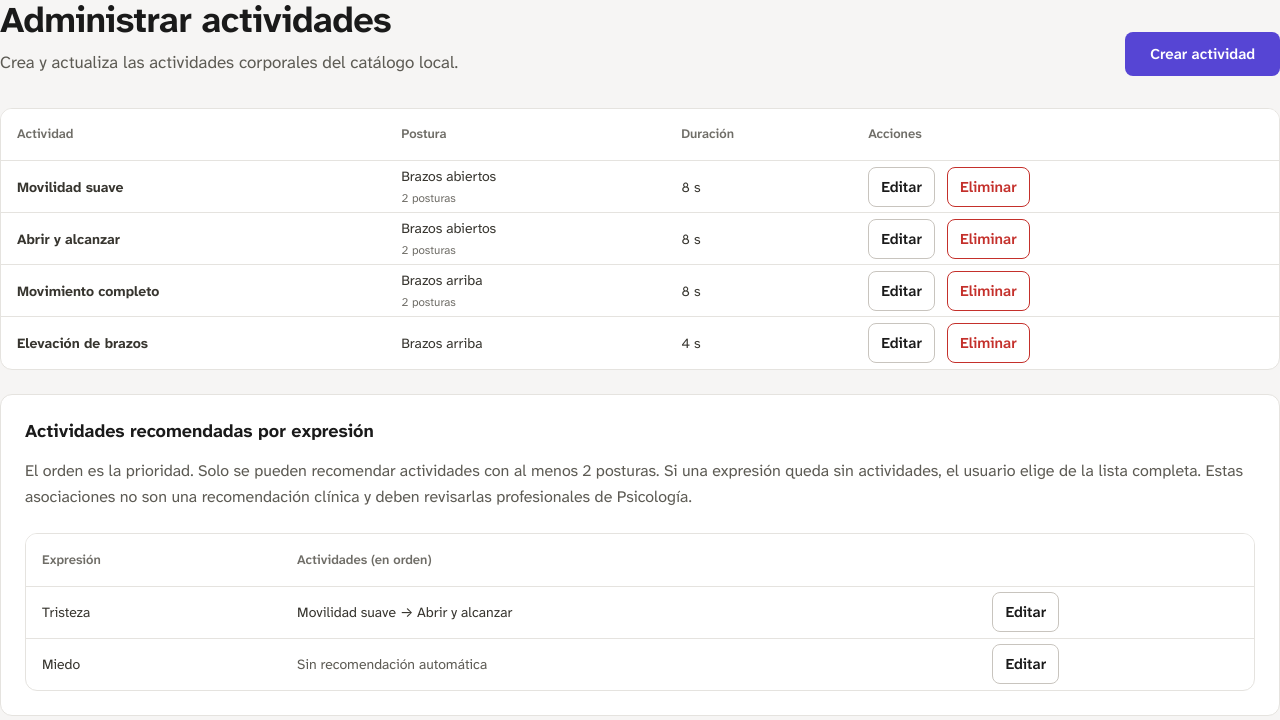
Test: administración de recomendaciones › muestra el 409 que nombra las expresiones afectadas al dejar una actividad recomendada con un paso
The width and height of the screenshot is (1280, 720).
Click the 1st button "Editar".
click(902, 187)  # box top-left (868, 167), bottom-right (935, 207)
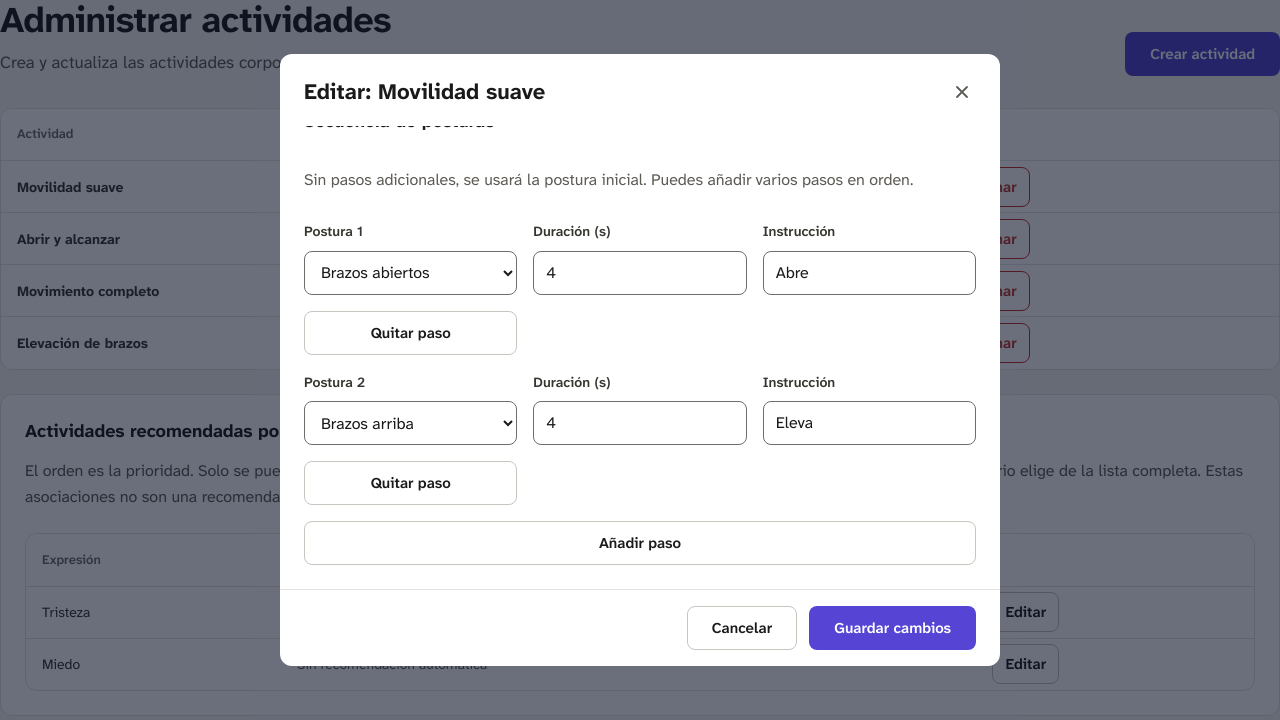
Click the 2nd button "Quitar paso".
click(411, 483)  # box top-left (304, 461), bottom-right (517, 505)
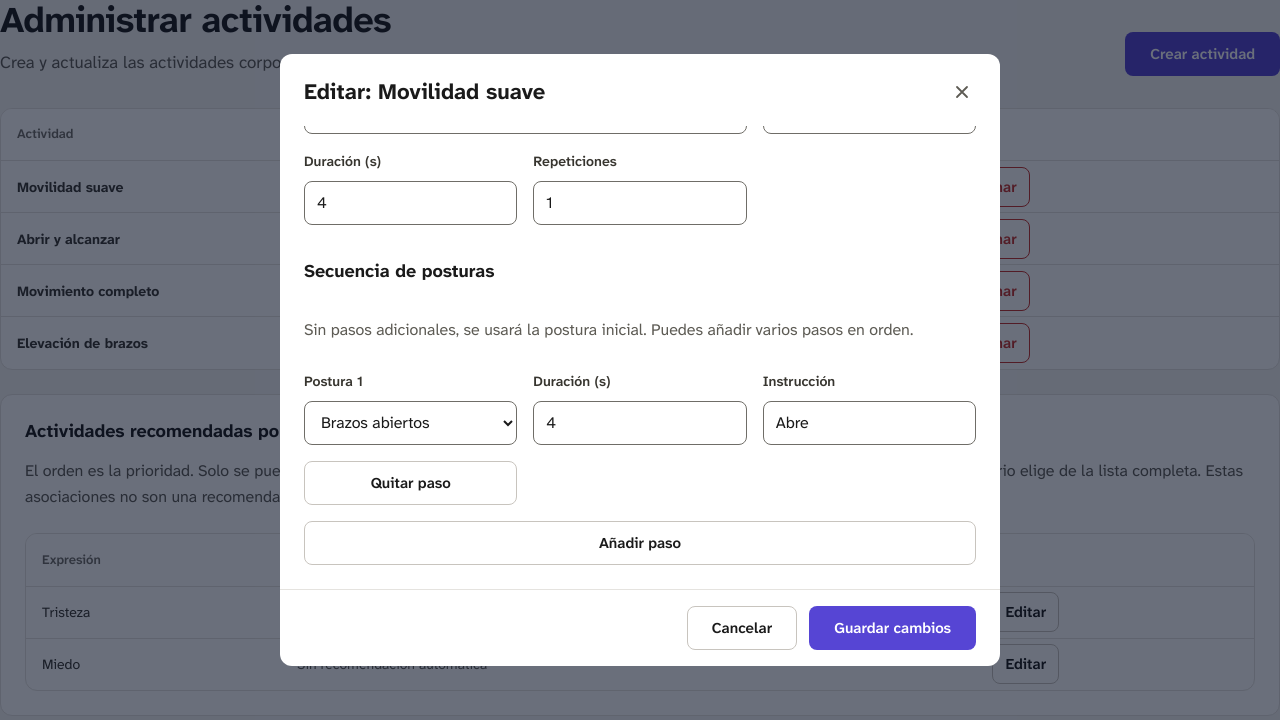
Click the button "Guardar cambios".
click(893, 628)  # box top-left (809, 606), bottom-right (976, 650)
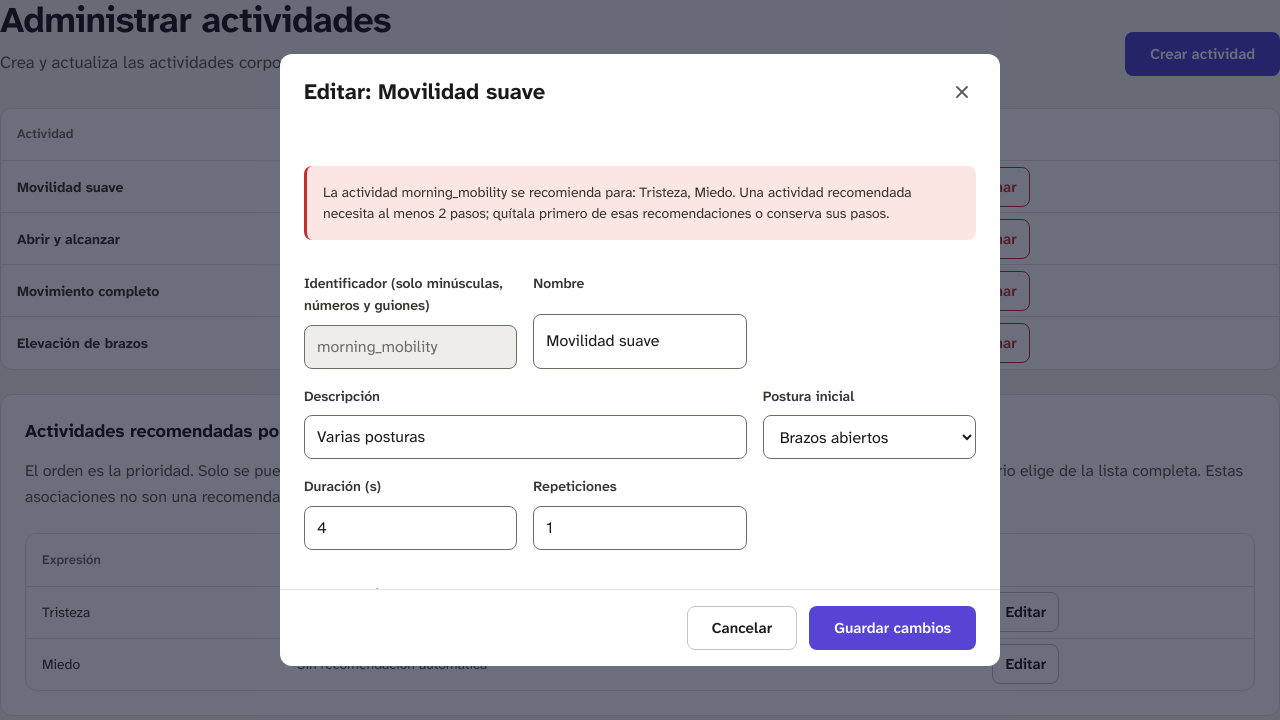
Result: the message shows "se recomienda para: Tristeza, Miedo" at top-left (323, 183), bottom-right (912, 222)
